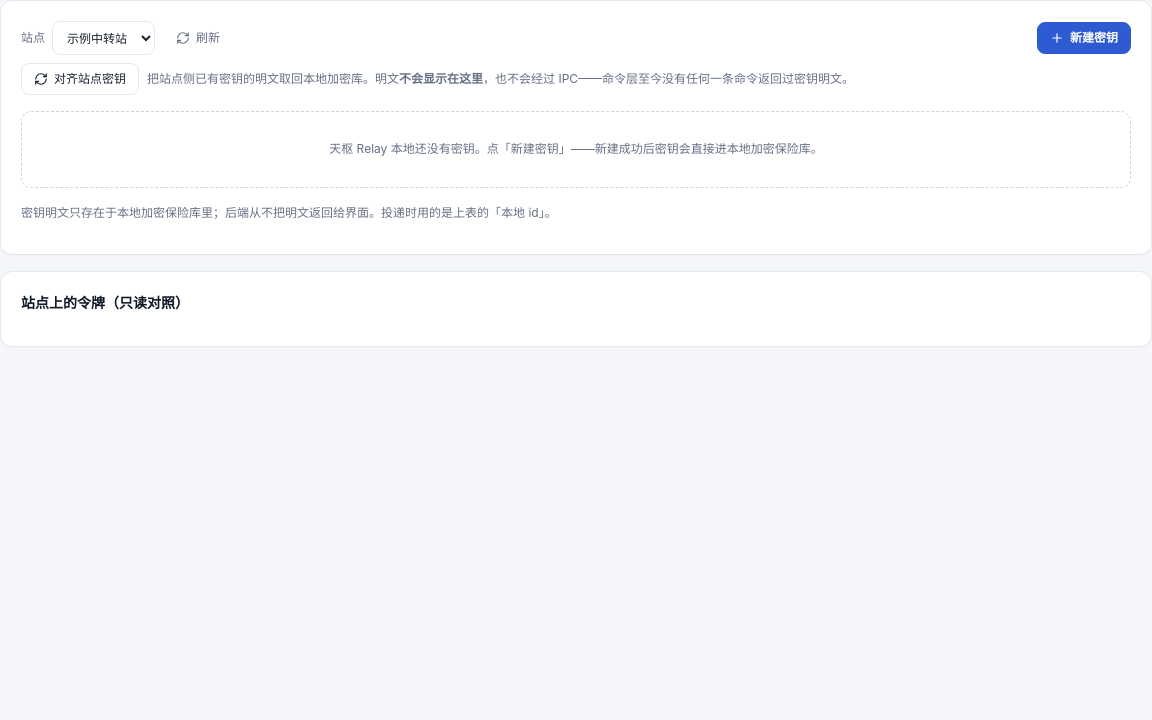
M19-S1 密钥分组绑定 › 没选分组时提示后果；选了就不提示
The width and height of the screenshot is (1152, 720).
Click the button "新建密钥": (1084, 38) 1037,22 -> 1131,54
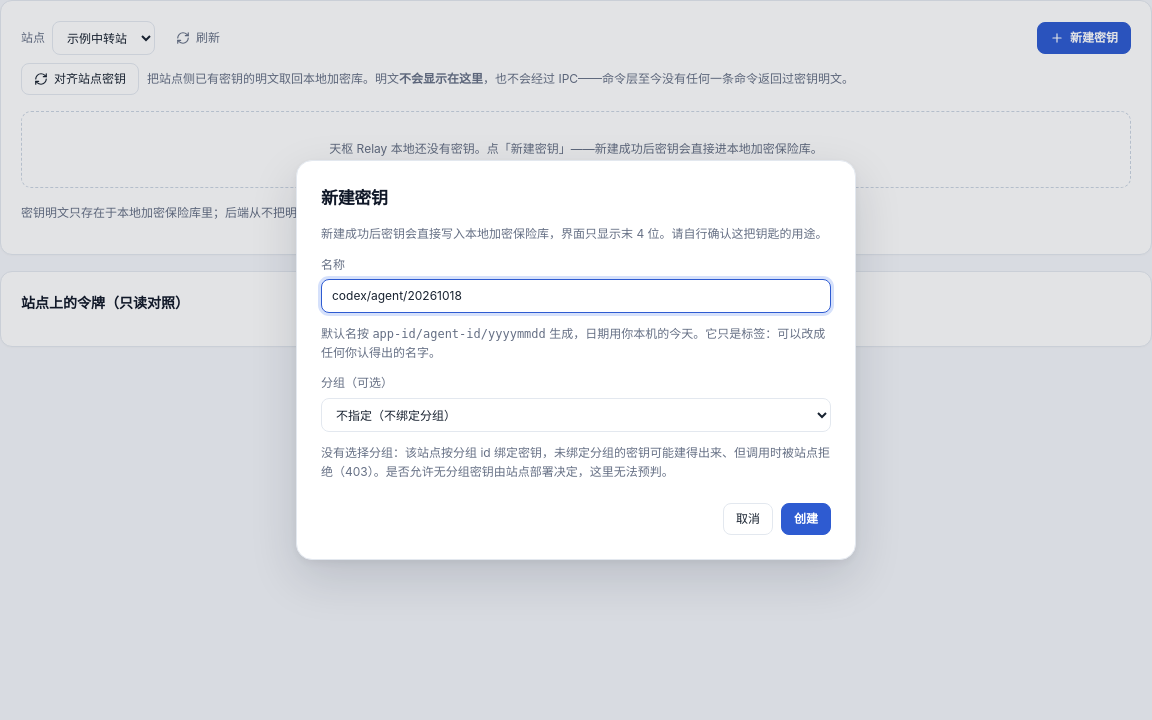
Expected: the text "没有选择分组" is shown, 321,445 -> 830,479
Select "gpt plus · 0.085×" in the dropdown labelled "分组（可选）": (576, 415) 321,398 -> 831,432
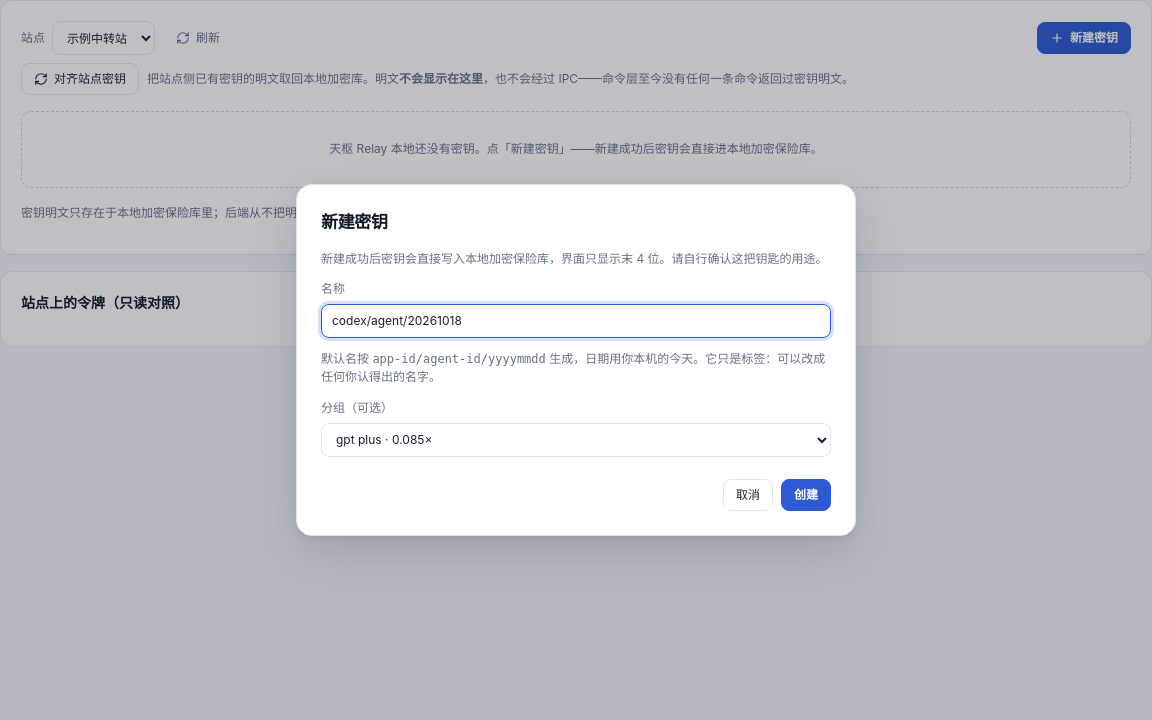
Expected: the text "没有选择分组" is gone
